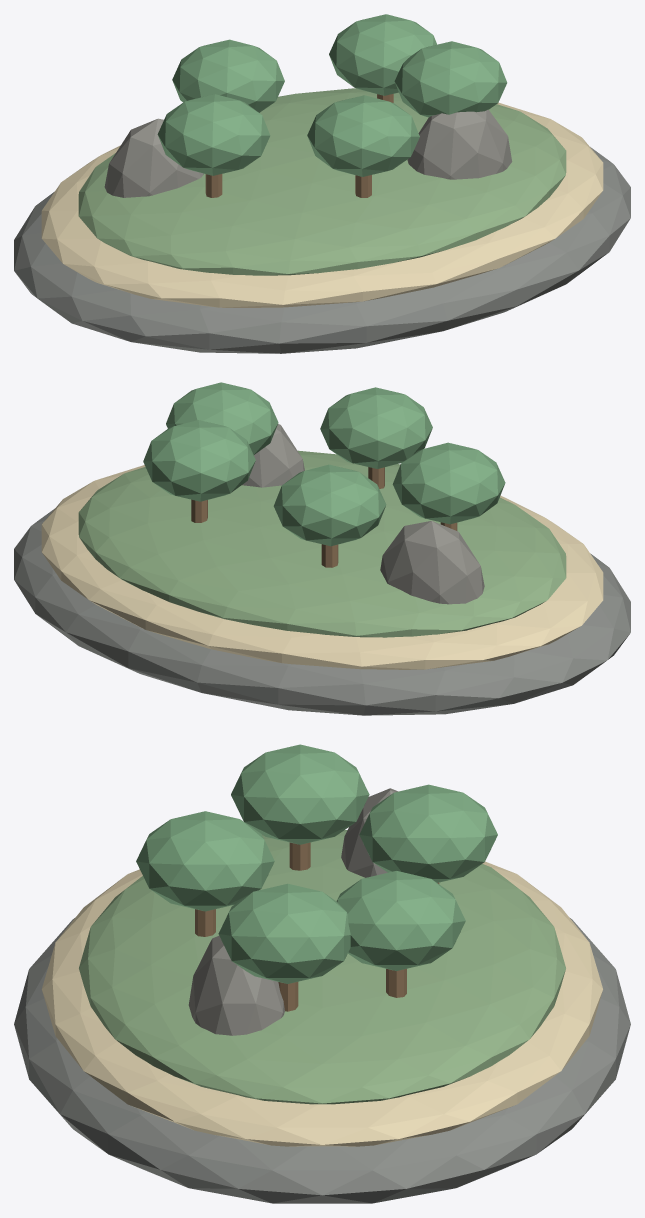
File: island_tropical_small_m201.glb
3 renders of one model, top to bottom at view 1: azimuth 30°, elevation 25°; view 2: azimuth 150°, elevation 25°; view 3: azimuth 270°, elevation 25°, orthographic. The views are drawn at different scales.
Visible parts, largest first — view 1: Ground, Rock, Sand, Foliage2, Foliage1, Foliage0, Cliff1, Foliage3, Foliage4, Cliff0; view 2: Ground, Rock, Sand, Foliage4, Foliage2, Foliage3, Foliage1, Cliff0, Foliage0, Cliff1; view 3: Ground, Rock, Sand, Foliage2, Foliage1, Foliage0, Foliage3, Foliage4, Cliff1, Cliff0.
Boxes of the visible parts, x1,y1,x2,y2 form: Ground: (78,88,566,275); Rock: (14,147,630,353); Sand: (41,102,603,307); Foliage2: (157,94,270,175); Foliage1: (307,95,419,176); Foliage0: (394,41,507,117); Cliff1: (407,109,512,179); Foliage3: (172,39,284,112); Foliage4: (329,14,436,95); Cliff0: (104,118,203,197); Ground: (78,450,566,637); Rock: (14,509,630,715); Sand: (41,465,603,669); Foliage4: (143,420,255,501); Foliage2: (392,442,505,524); Foliage3: (273,464,386,546); Foliage1: (320,387,432,468); Cliff0: (380,520,484,604); Foliage0: (166,382,278,454); Cliff1: (242,424,304,487); Ground: (79,830,565,1104); Rock: (14,917,630,1203); Sand: (41,861,603,1146); Foliage2: (231,744,369,844); Foliage1: (136,811,274,911); Foliage0: (218,883,350,983); Foliage3: (359,784,497,882); Foliage4: (336,871,465,970); Cliff1: (188,936,284,1035); Cliff0: (341,788,398,877).
Size of the model in its own units: 8.4 by 3.01 by 6.4.
